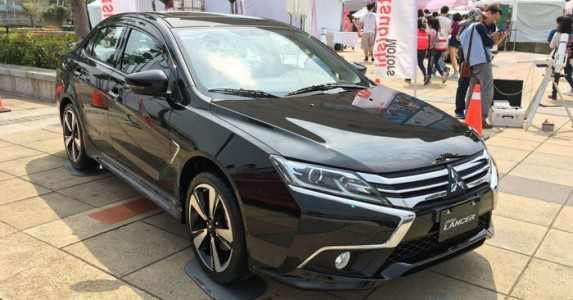sedan: (54, 9, 499, 291)
